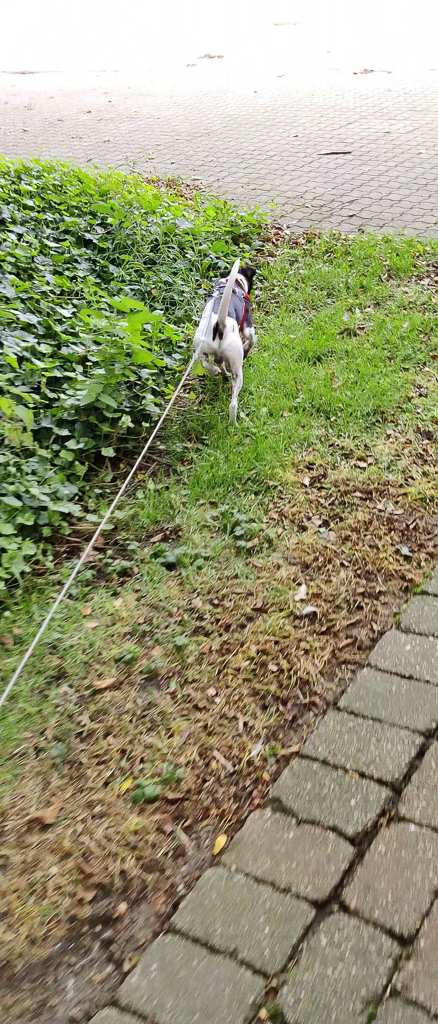Dog: (173, 243, 283, 442)
